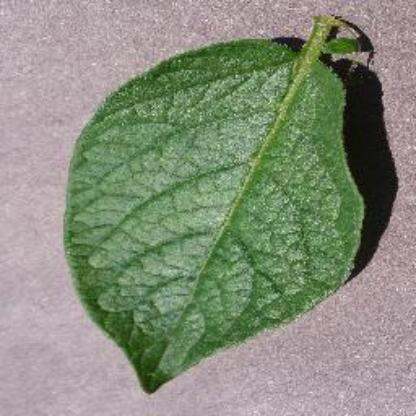Healthy-plant: (62, 30, 386, 374)
